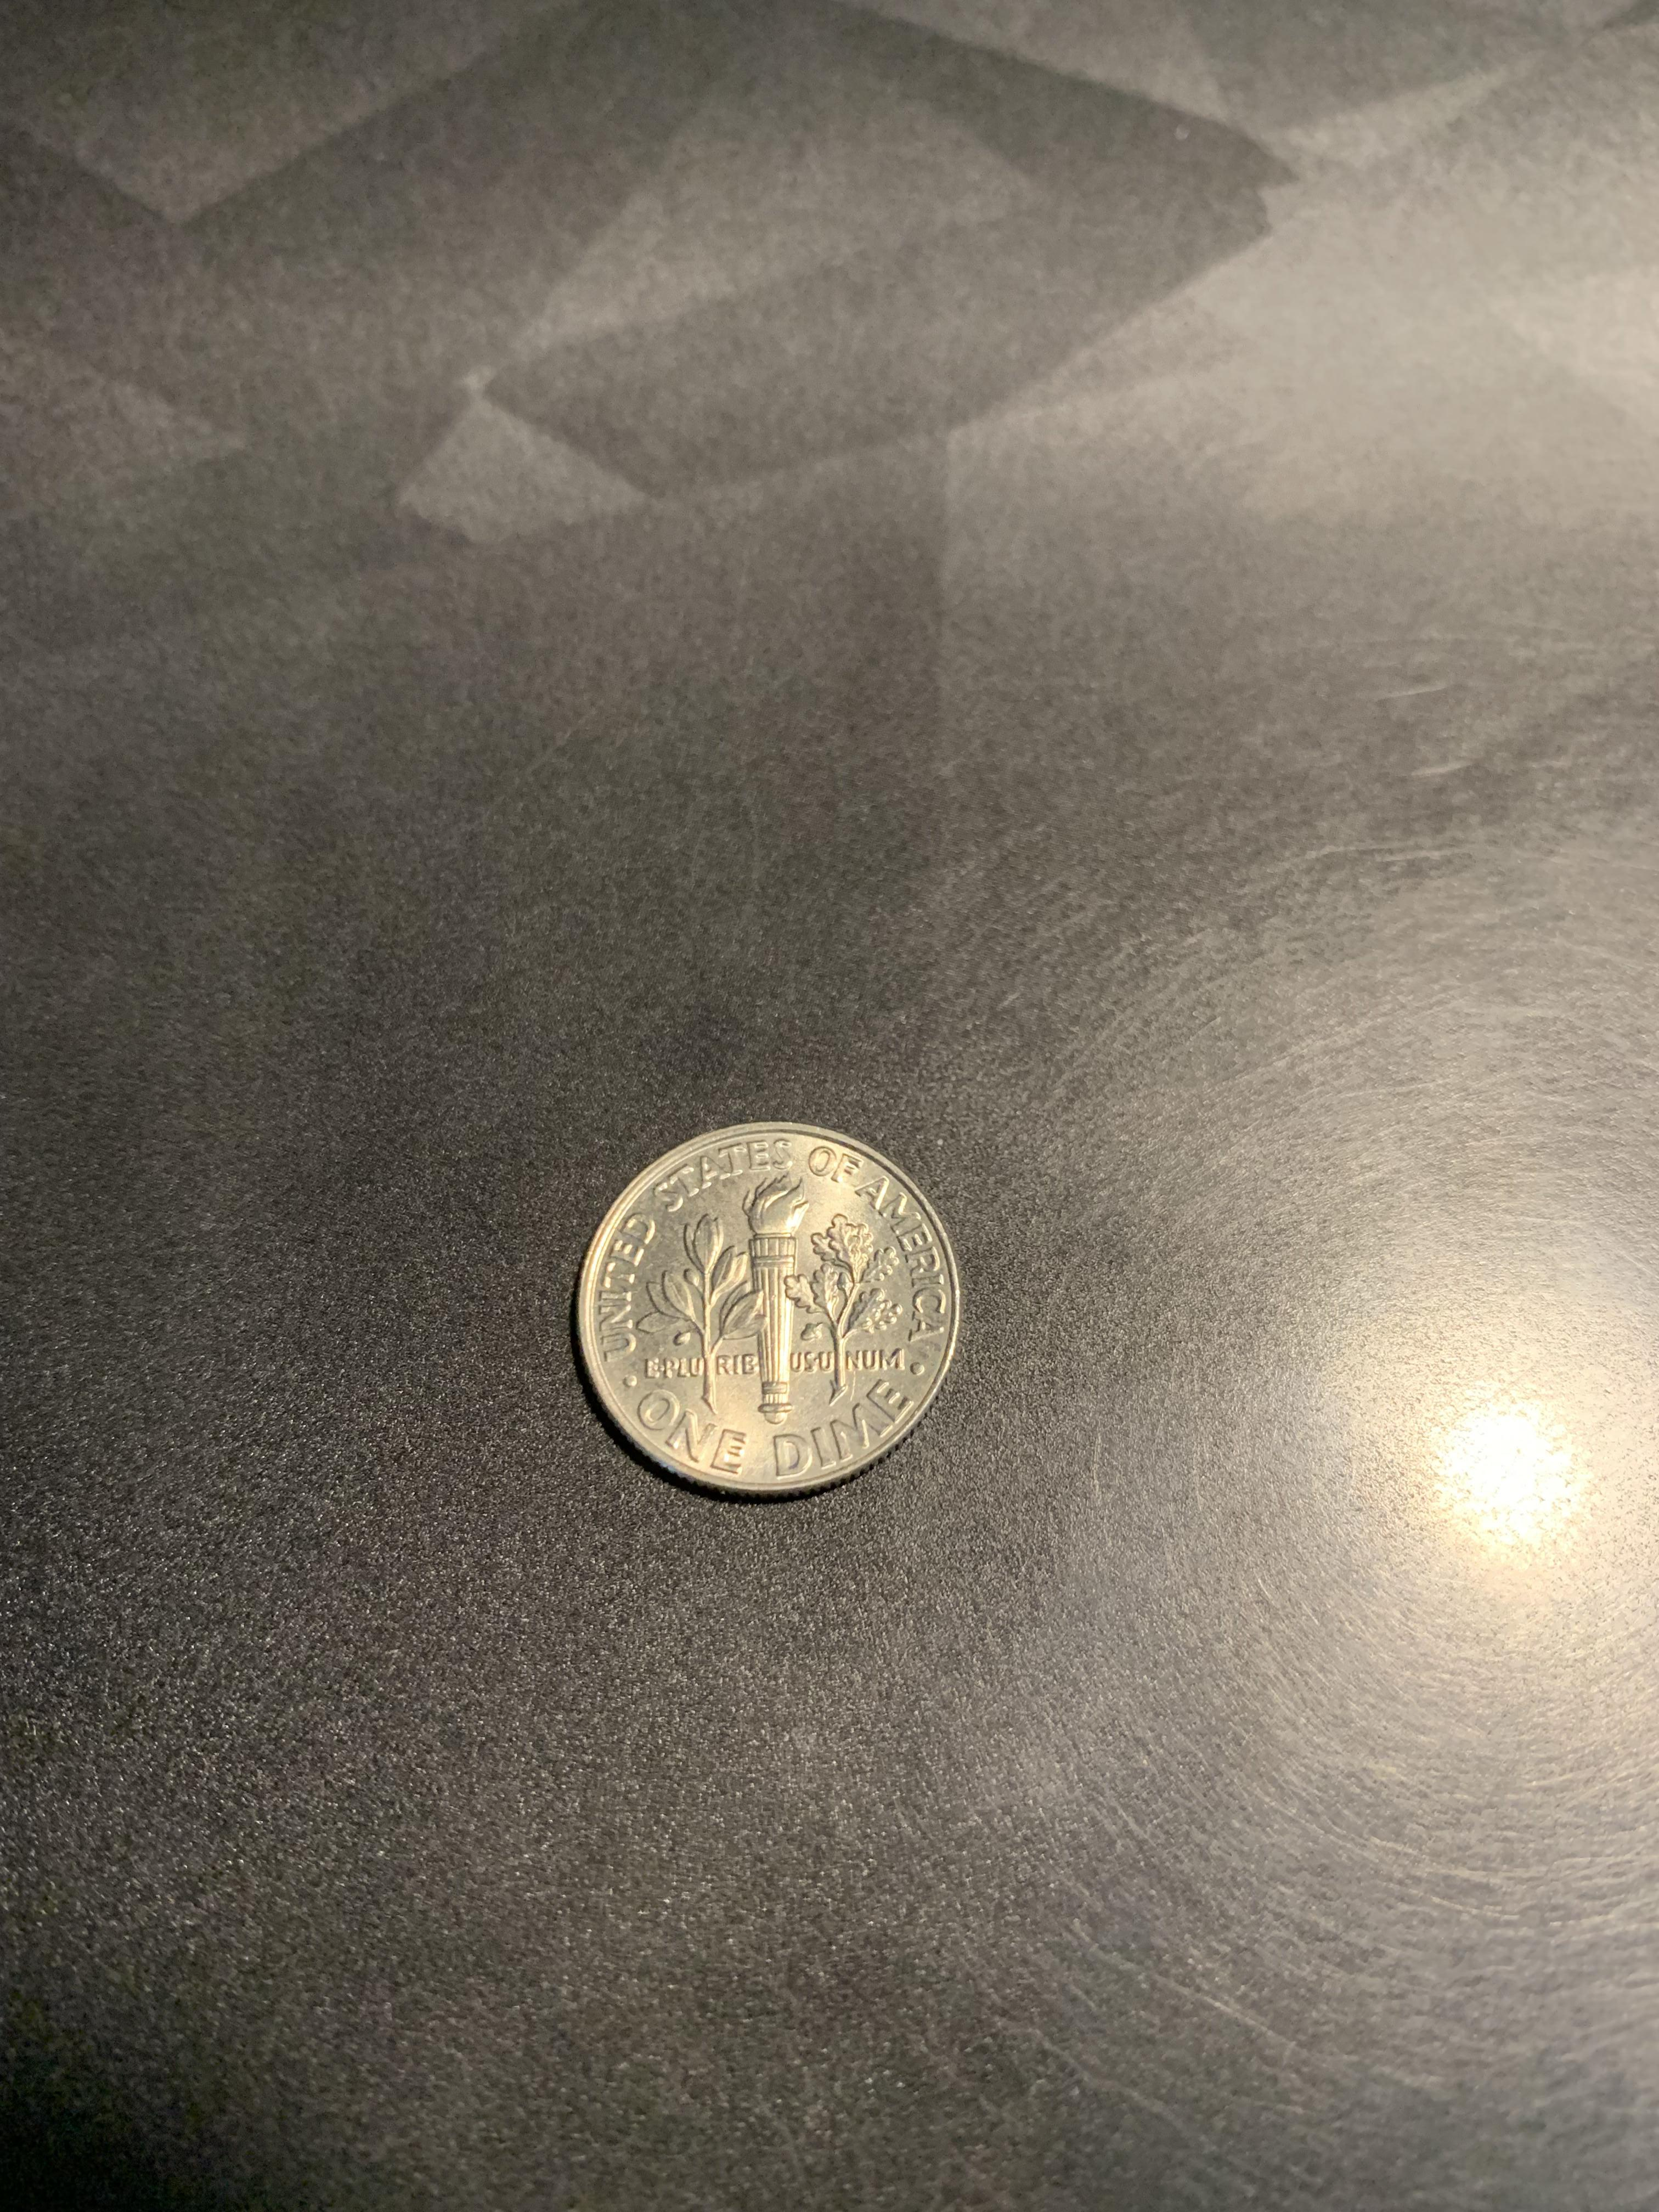Dime: (552, 1094, 992, 1526)
